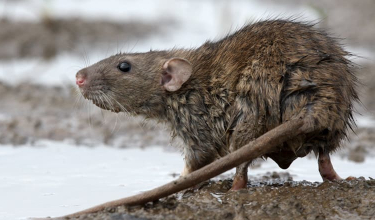rat: (67, 15, 367, 193)
